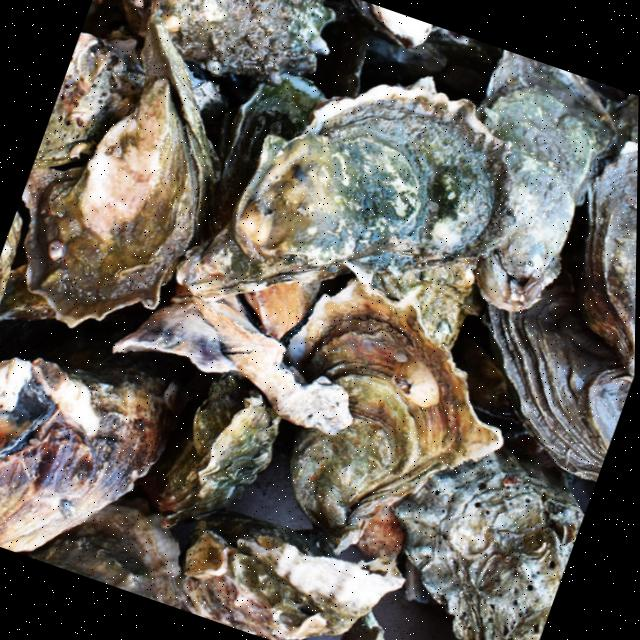Oyster-Closed: (177, 84, 514, 306), (22, 78, 199, 330), (474, 49, 613, 311), (579, 141, 638, 374), (350, 0, 434, 50), (589, 369, 634, 444)
Oyster-Indeterminate: (289, 278, 504, 552), (0, 310, 183, 553), (393, 449, 583, 640), (488, 270, 634, 480), (171, 511, 403, 640), (171, 284, 352, 432), (206, 73, 329, 242), (138, 388, 280, 523), (21, 496, 179, 609), (139, 22, 216, 248), (139, 0, 332, 86), (370, 263, 485, 350), (113, 304, 236, 373), (245, 281, 321, 340), (192, 373, 246, 455), (0, 212, 23, 303), (184, 533, 227, 577), (340, 613, 385, 640)
